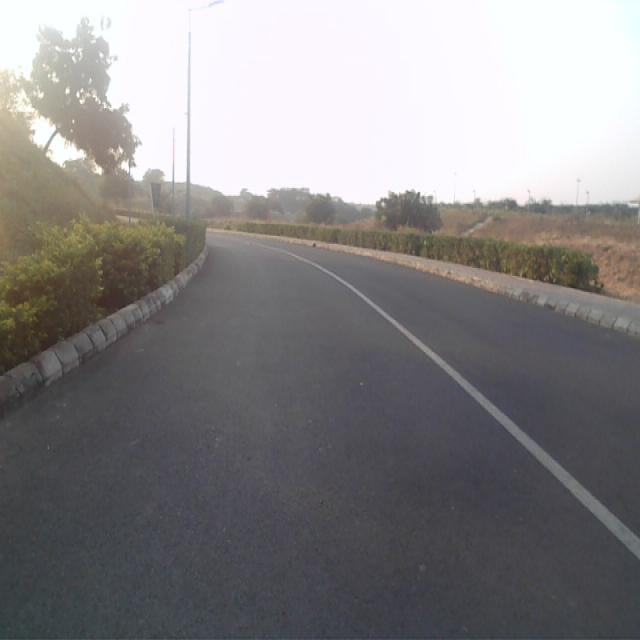lane: (0, 234, 640, 635)
